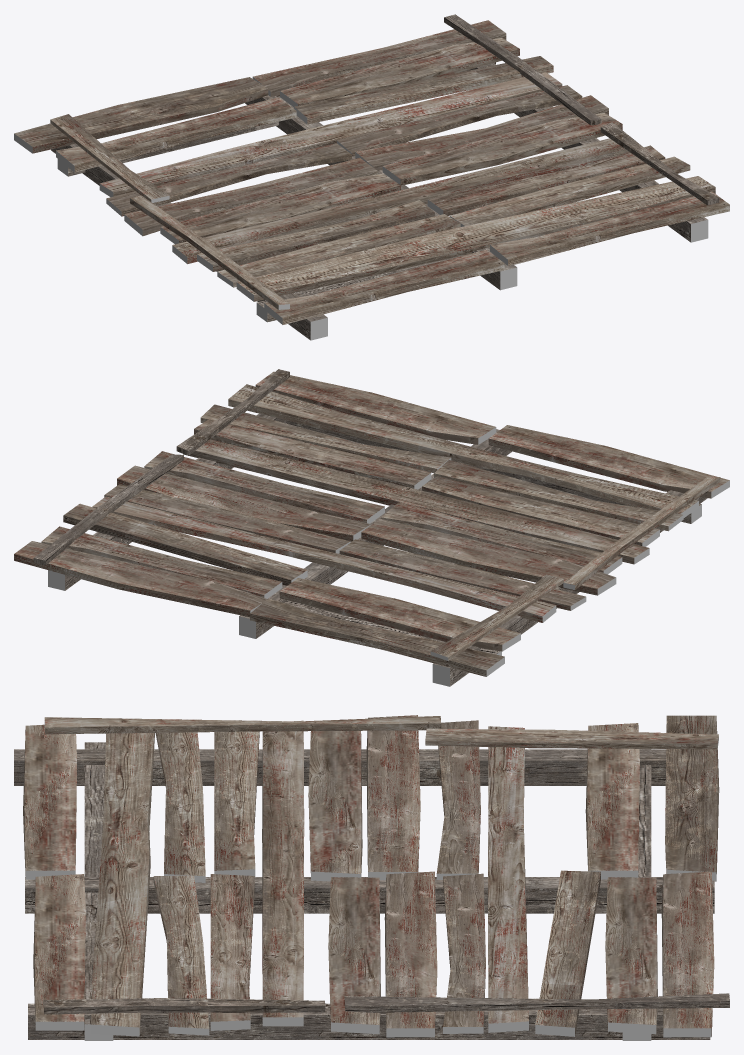
The model's file is Platform2.fbx.
3 views of the same model, one above another, from view 1: azimuth 30°, elevation 25°; view 2: azimuth 150°, elevation 25°; view 3: azimuth 270°, elevation 25° (orthographic). The views are drawn at different scales.
Visible parts, largest first — view 1: polySurface1275; view 2: polySurface1275; view 3: polySurface1275.
Part boxes in pixels (bbox=[...]): polySurface1275: bbox=[14, 14, 729, 340]; polySurface1275: bbox=[14, 369, 729, 686]; polySurface1275: bbox=[14, 715, 729, 1040].
Bounding box in the file's own units: 5.32 × 0.3499 × 5.15.
